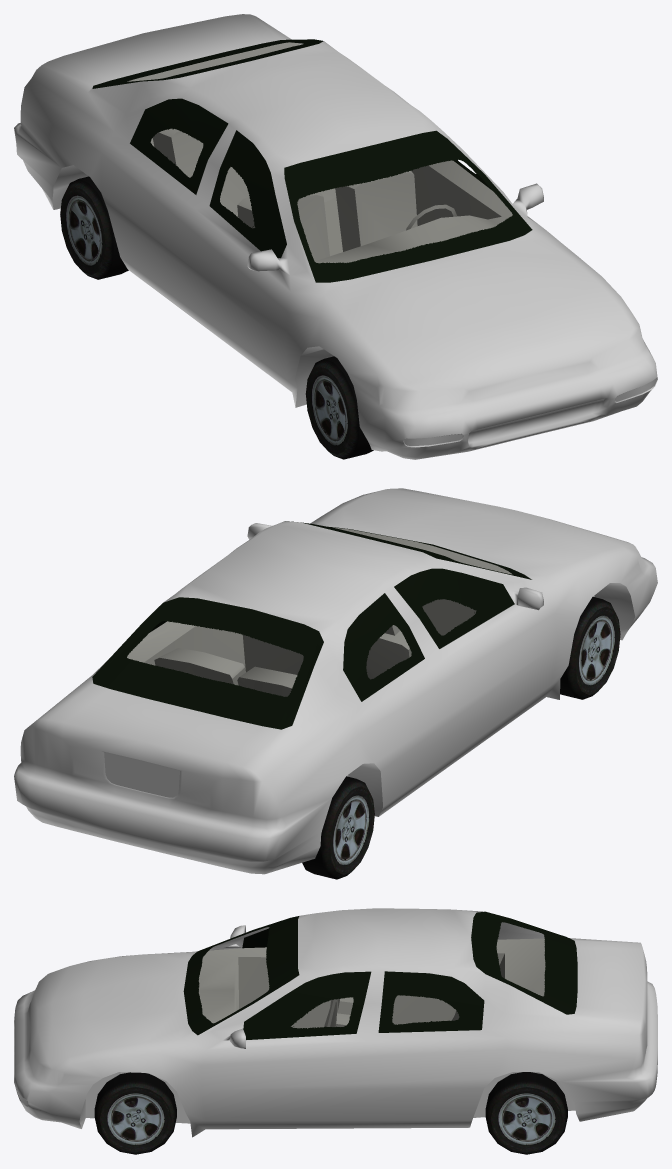
File: honda.FBX
3 renders of one model, top to bottom at view 1: azimuth 30°, elevation 25°; view 2: azimuth 150°, elevation 25°; view 3: azimuth 270°, elevation 25°, orthographic. The views are drawn at different scales.
Parts seen in each view (by area): view 1: HABluB, HABluG, HABluI, HABluT01, HABluT02; view 2: HABluB, HABluG, HABluI, HABluT01, HABluT02; view 3: HABluB, HABluG, HABluI, HABluT00, HABluT03.
Boxes of the visible parts, x1,y1,x2,y2 form: HABluB: (14,14,657,459); HABluG: (92,39,532,282); HABluI: (127,42,512,263); HABluT01: (60,176,128,279); HABluT02: (305,356,373,459); HABluB: (14,488,657,874); HABluG: (92,521,531,729); HABluI: (127,527,512,696); HABluT01: (302,776,374,879); HABluT02: (560,597,620,699); HABluB: (14,908,657,1137); HABluG: (183,911,577,1039); HABluI: (198,938,545,1028); HABluT00: (485,1072,567,1154); HABluT03: (94,1072,176,1154).
Bounding box in the file's own units: 76.53 × 53.53 × 183.
